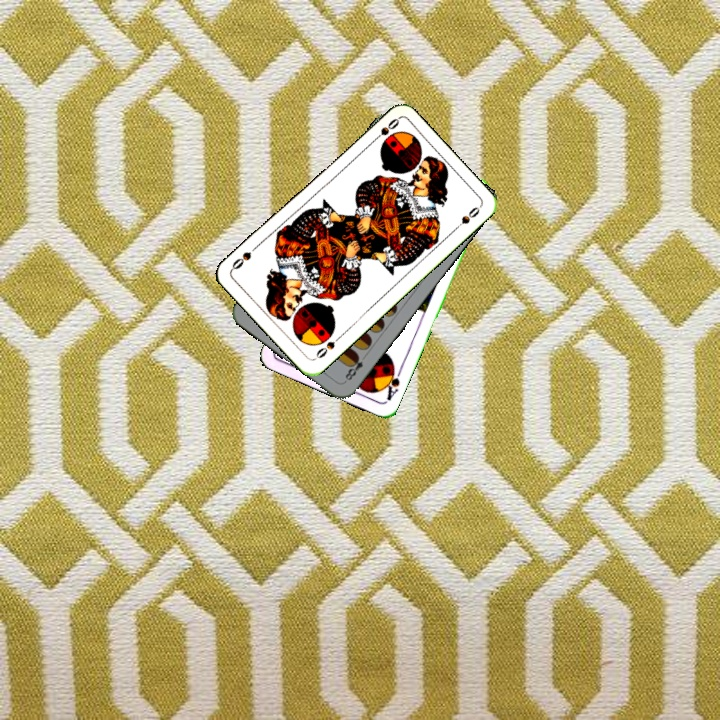E8: (340, 350, 366, 385)
SA: (379, 362, 404, 403)
SO: (367, 114, 402, 146), (311, 331, 344, 362)
